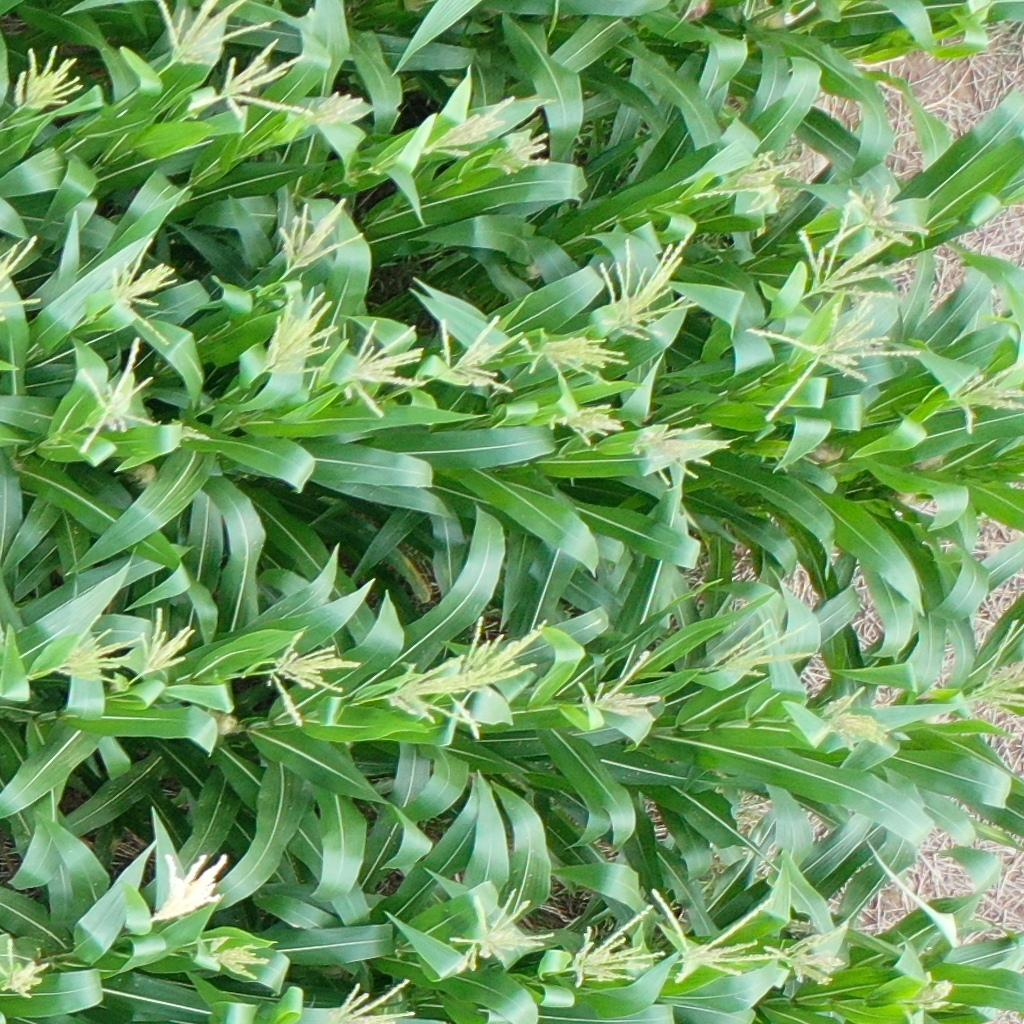Tassel: (742, 304, 926, 426), (651, 888, 776, 983), (81, 337, 176, 460), (599, 232, 700, 339), (259, 626, 364, 726), (344, 317, 435, 421), (217, 39, 314, 133), (790, 225, 909, 301), (446, 887, 555, 969), (568, 905, 668, 989), (699, 615, 825, 679), (825, 179, 929, 255), (632, 413, 737, 488), (457, 611, 556, 690), (154, 1, 273, 66), (379, 653, 479, 727), (438, 313, 523, 398), (275, 197, 364, 278), (261, 288, 338, 379), (519, 329, 635, 388), (423, 90, 514, 165), (573, 648, 665, 722), (969, 618, 1024, 732), (53, 610, 135, 686), (691, 146, 804, 199), (12, 45, 87, 120), (951, 361, 1024, 435), (812, 687, 894, 752), (151, 849, 226, 920), (761, 929, 844, 991), (1, 232, 55, 327), (106, 239, 172, 315), (542, 394, 622, 450), (138, 606, 199, 676), (335, 972, 416, 1024), (480, 129, 555, 180), (208, 935, 271, 991), (1, 936, 52, 1000), (301, 88, 363, 139), (907, 970, 956, 1014)
